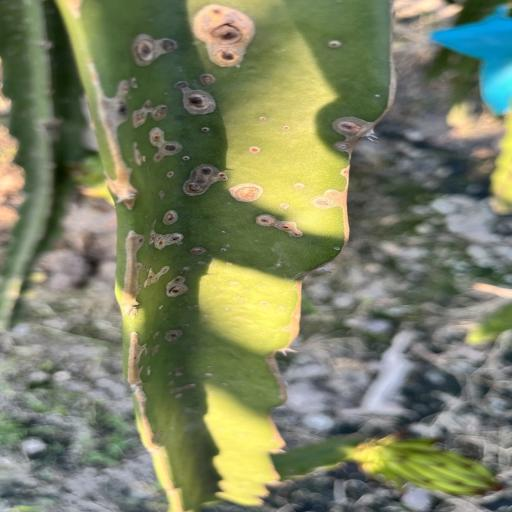stemcanker: (240, 210, 313, 248), (165, 71, 225, 92), (274, 179, 306, 210), (138, 263, 171, 290), (258, 115, 299, 136), (145, 229, 184, 251), (188, 244, 236, 261), (316, 34, 348, 58), (158, 213, 188, 227), (242, 143, 264, 161), (213, 258, 237, 274), (164, 330, 186, 346), (173, 262, 194, 278), (126, 77, 147, 92), (196, 126, 216, 138), (163, 169, 180, 182), (330, 142, 348, 152), (178, 156, 198, 165), (156, 300, 166, 316)
